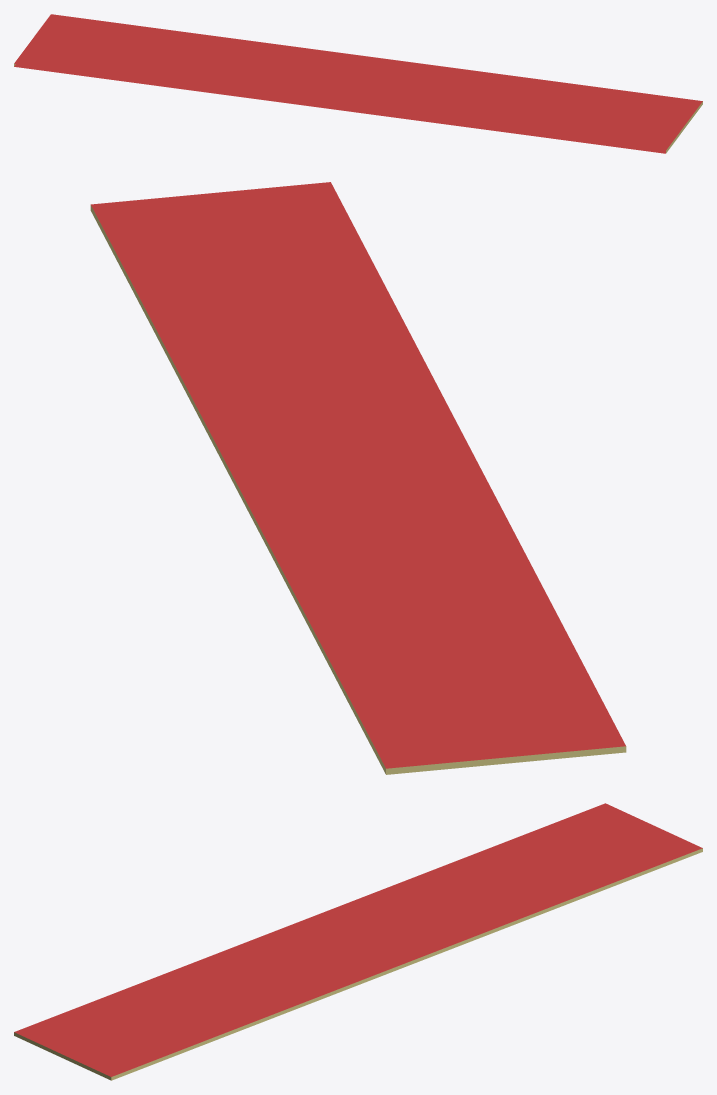
3 renders of one model, top to bottom at view 1: azimuth 30°, elevation 25°; view 2: azimuth 150°, elevation 25°; view 3: azimuth 270°, elevation 25°, orthographic. The views are drawn at different scales.
Bounding box in the file's own units: 16.09 × 17.1 × 0.1.
